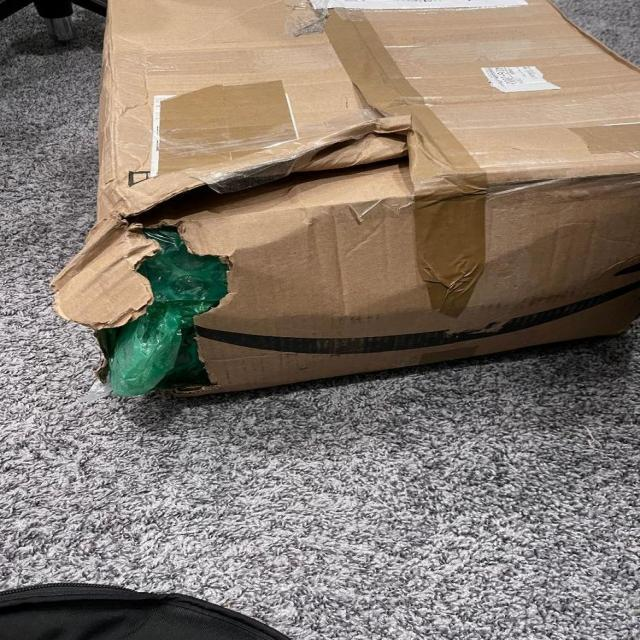damaged: (87, 216, 251, 403)
